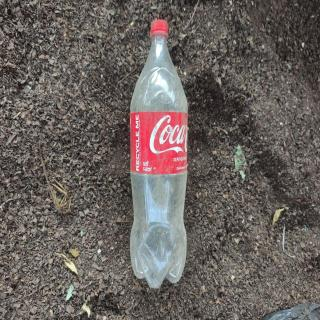Plastic-bottle: (128, 17, 190, 295)
